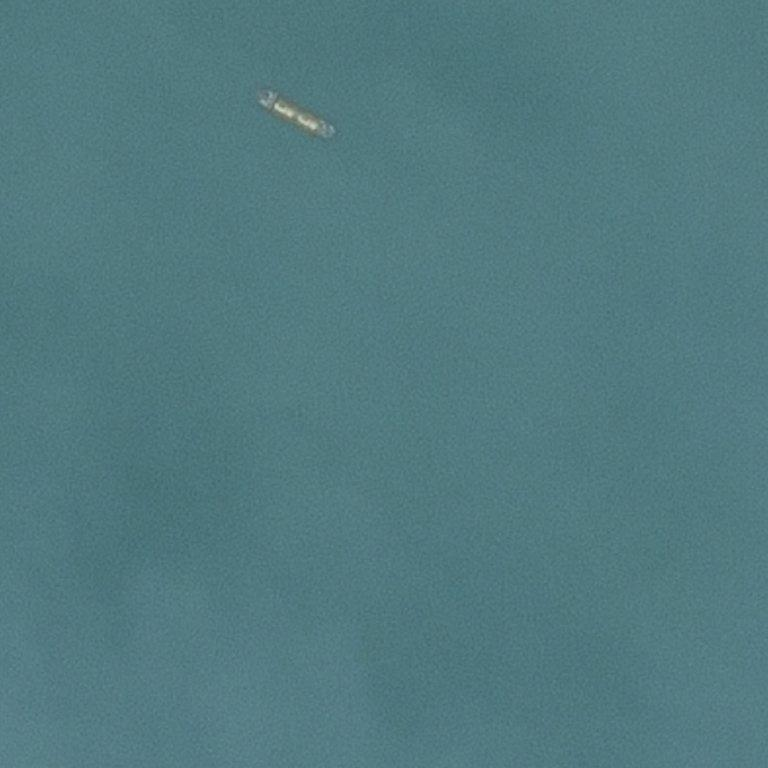ship: (294, 5, 298, 70), (309, 137, 312, 140), (258, 93, 260, 97), (307, 129, 307, 130)
